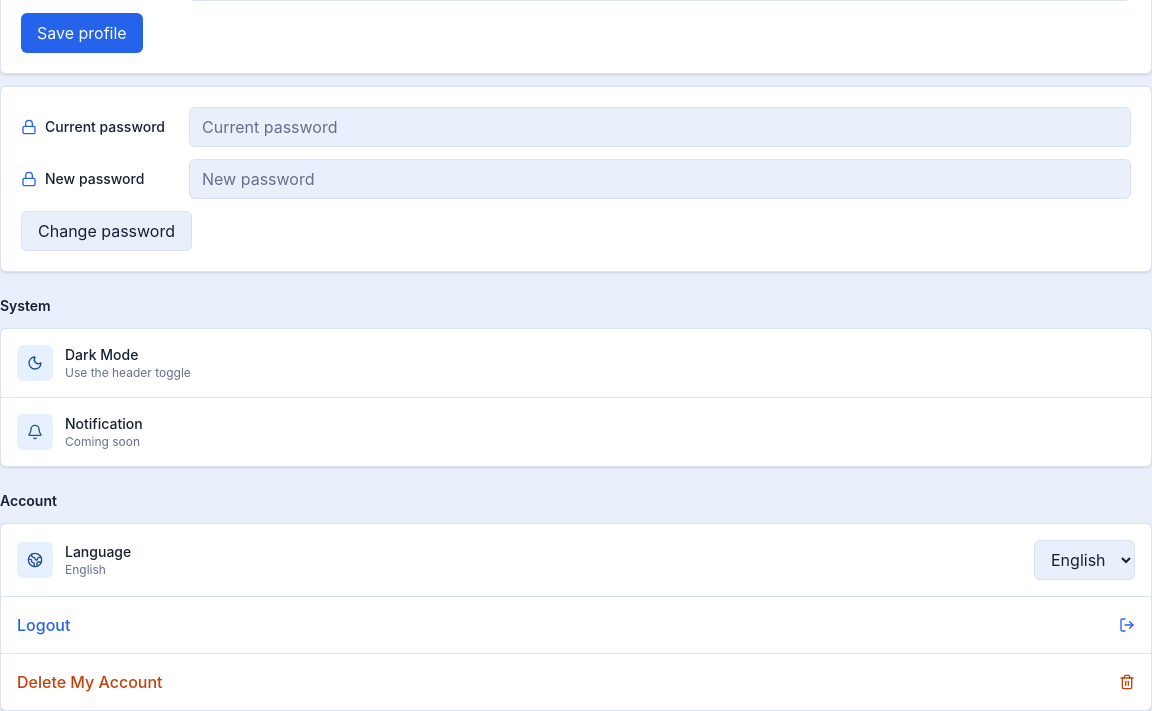
Test: SettingsPage › opens the delete account confirmation modal
This screenshot has width=1152, height=711.
(page scrolled)
Click the button "Delete My Account": (90, 682) [1,654,1151,710]
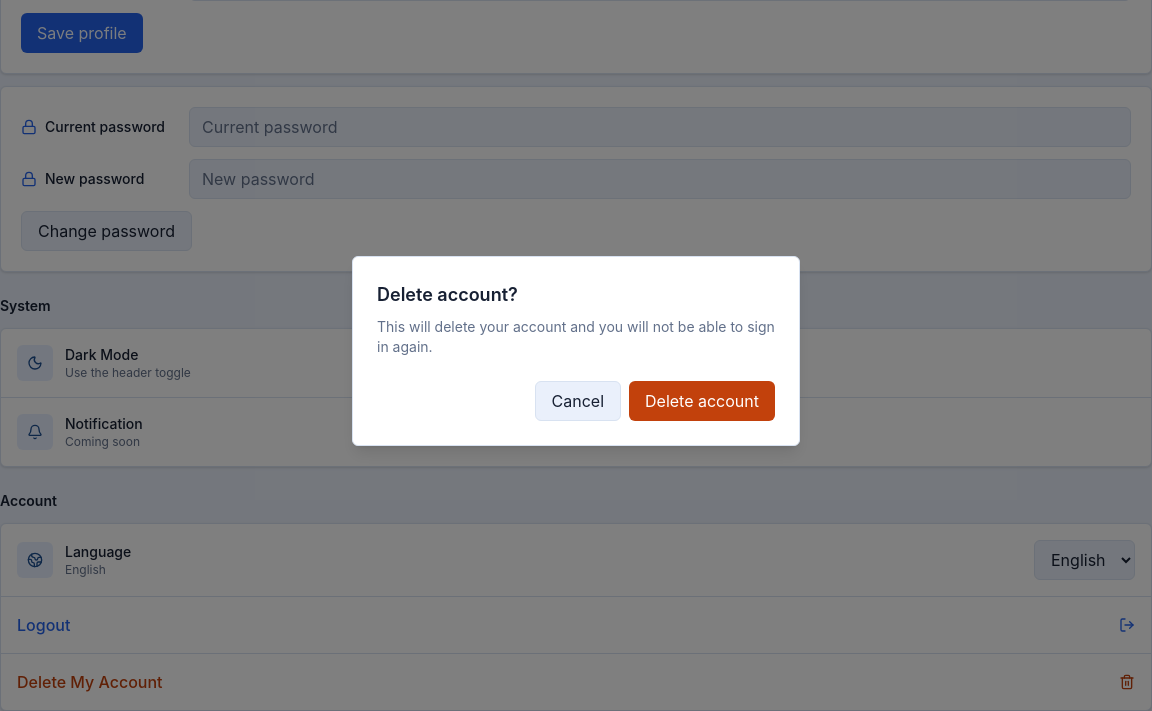
Result: the heading "Delete account?" is shown at [377,284,518,305]
Result: the button "Delete account" is shown at [629,381,775,421]
